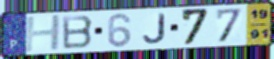6: (106, 12, 133, 48)
7: (180, 8, 211, 47), (215, 7, 245, 44)
B: (60, 14, 95, 50)
H: (24, 13, 63, 54)
J: (142, 12, 168, 45)
